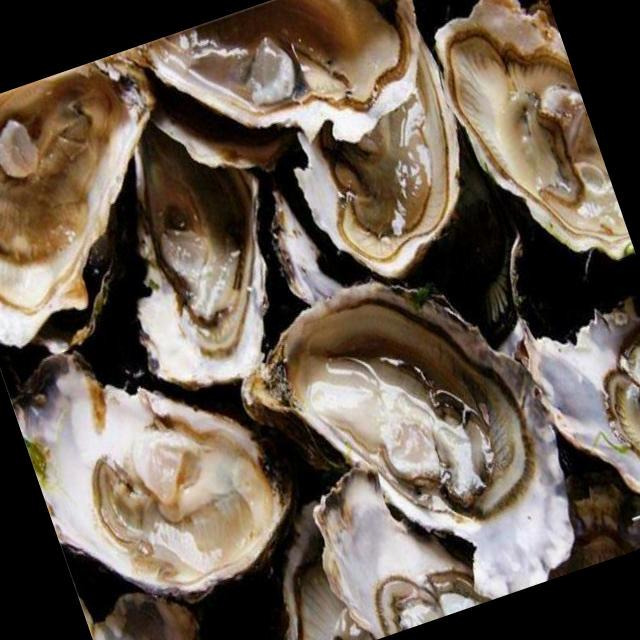Oyster-Open: (242, 278, 566, 598), (9, 351, 288, 594), (434, 0, 631, 259), (95, 0, 423, 145), (0, 61, 153, 348), (294, 43, 458, 278), (508, 214, 640, 495), (132, 117, 265, 387), (313, 464, 474, 640), (87, 588, 202, 640)
